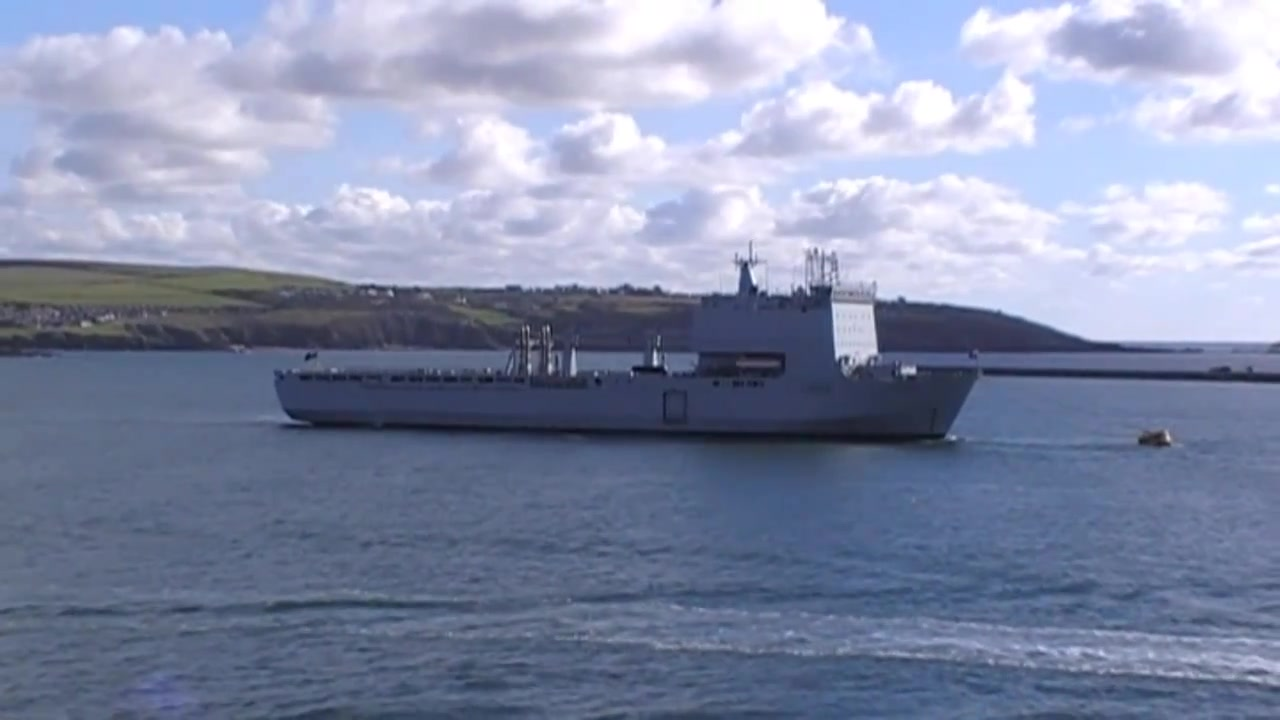boat: (269, 239, 991, 449)
